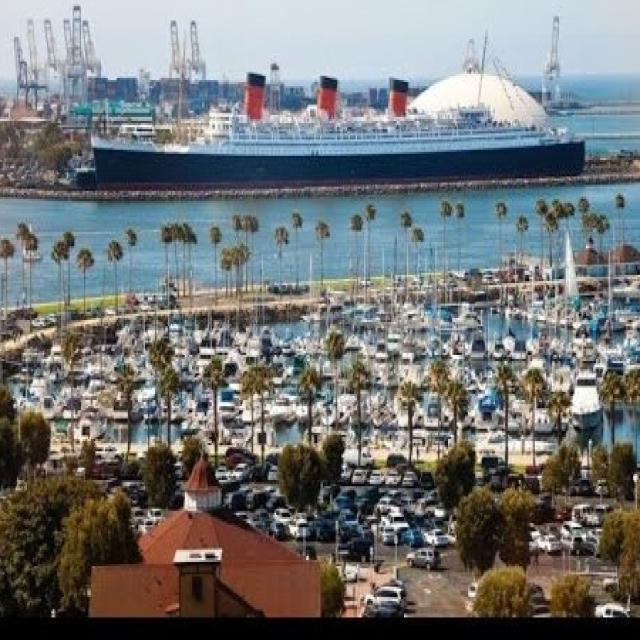cargoship: (73, 90, 594, 191)
